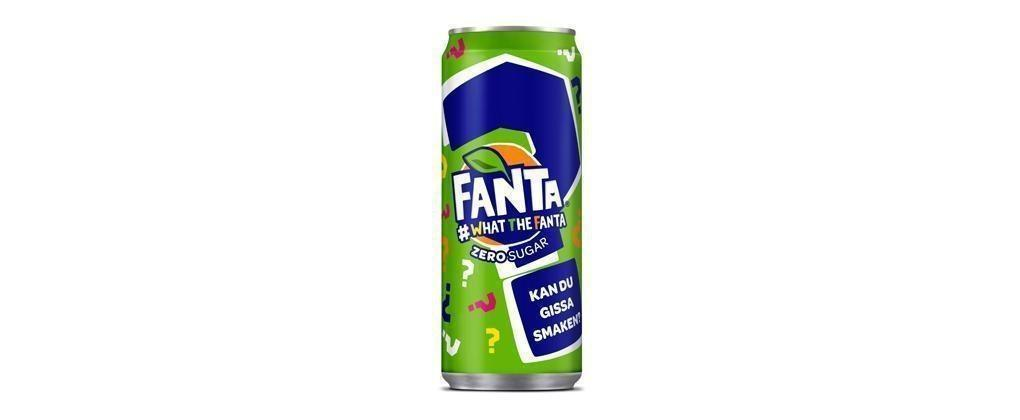tin can: (436, 20, 587, 397)
